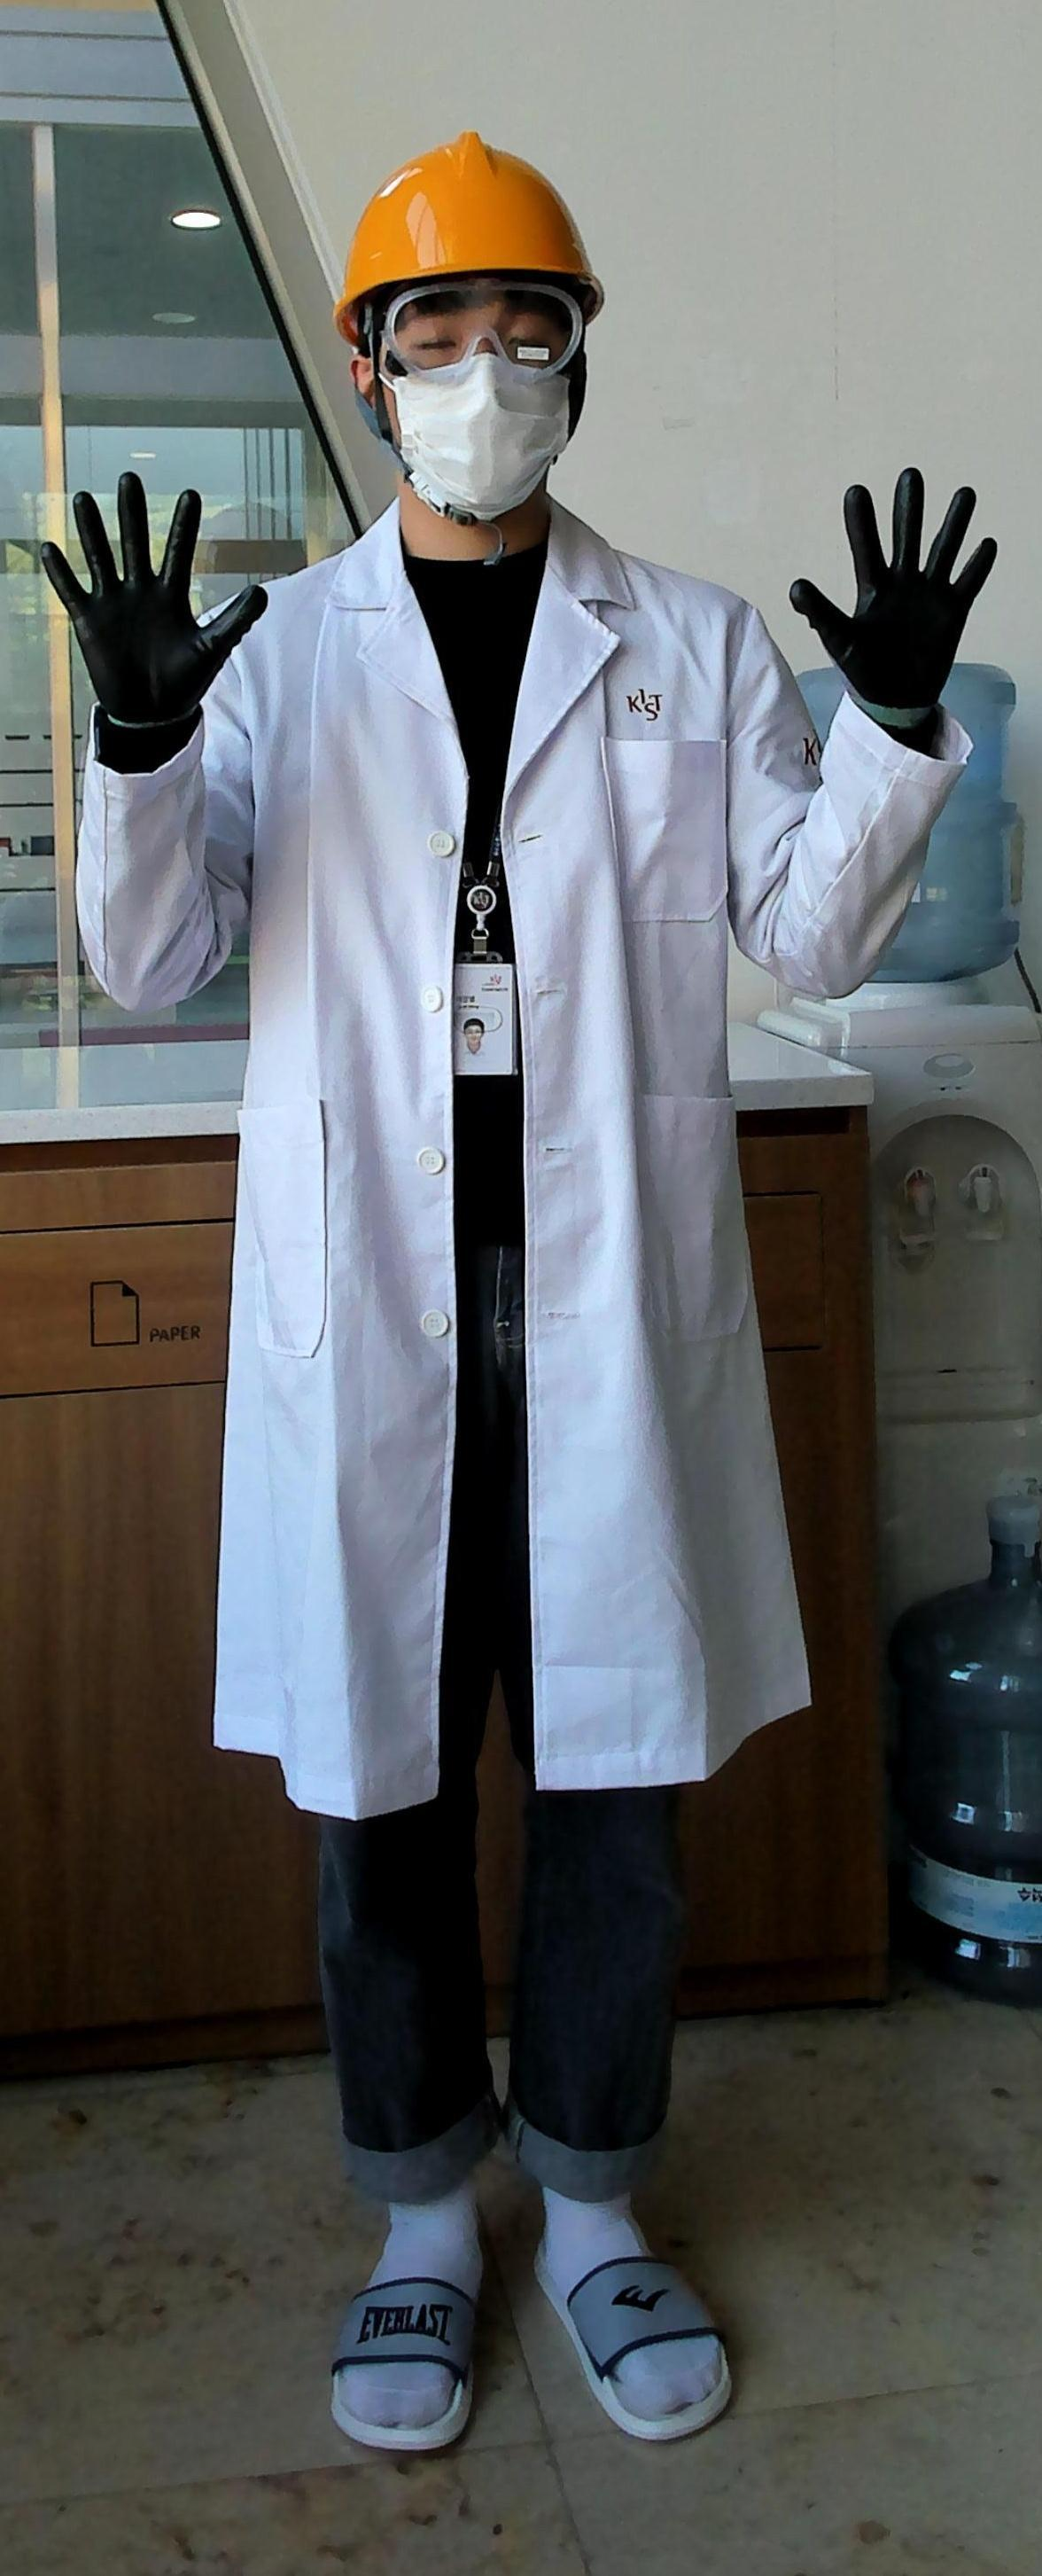lab_coat: (271, 568, 797, 1741)
